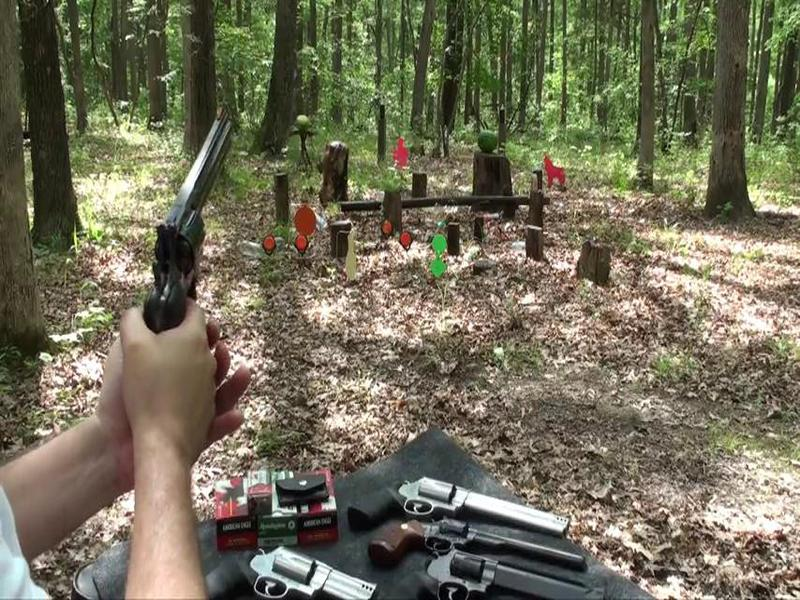Revolver: (99, 91, 269, 341)
